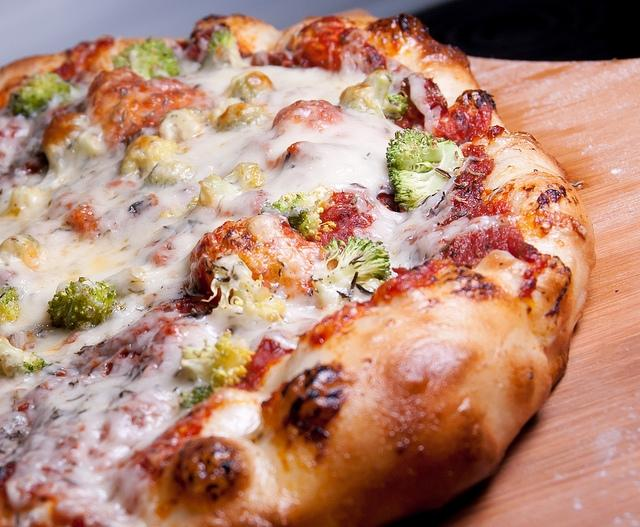broccoli: (181, 330, 255, 386), (48, 277, 118, 331), (6, 73, 80, 119), (325, 236, 391, 283), (114, 39, 180, 82), (386, 127, 444, 173), (197, 30, 242, 70), (288, 208, 322, 238), (382, 90, 408, 120), (17, 352, 50, 375), (1, 286, 20, 322)
